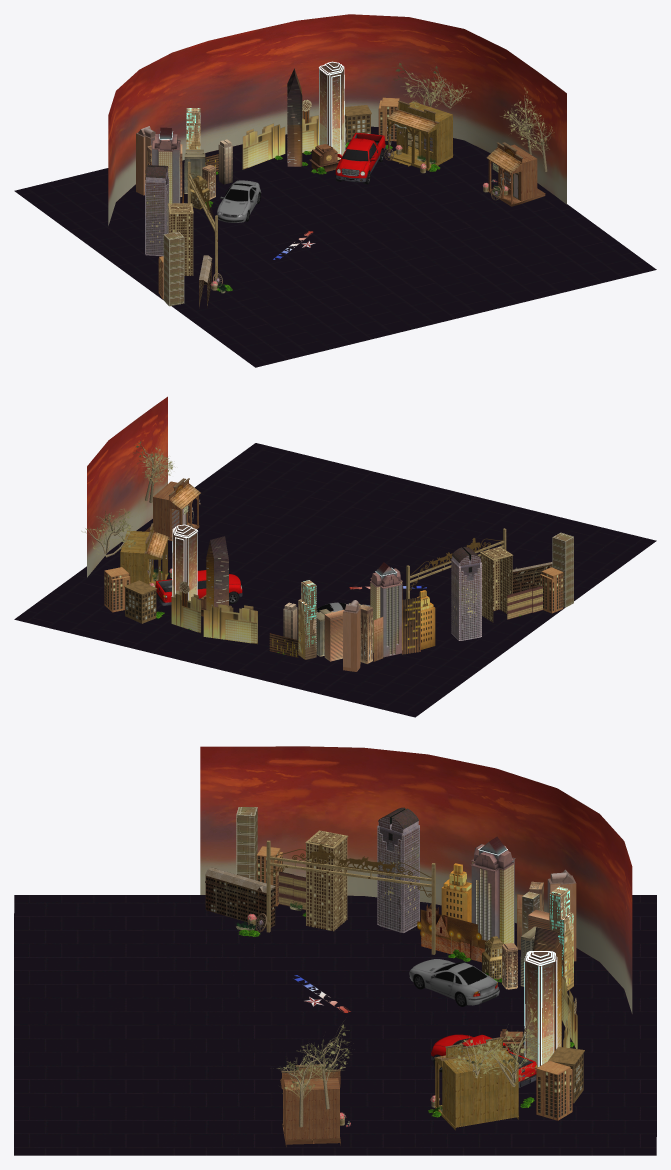
Rendered from wof_da.glb.
3 renders of one model, top to bottom at view 1: azimuth 30°, elevation 25°; view 2: azimuth 150°, elevation 25°; view 3: azimuth 270°, elevation 25°, orthographic. The views are drawn at different scales.
Parts seen in each view (by area): view 1: reflect_floorShape, backgroundShape, TreesShape, SaloonShape:6, BuildingShape:25, BuildingShape:14, Car_bigShape, storeShape:1, BuildingShape:11, BuildingShape:26, BuildingShape:20, BuildingShape:1 (+14 smaller); view 2: reflect_floorShape, backgroundShape, BuildingShape:14, BuildingShape:25, BuildingShape:20, BuildingShape:9, TreesShape, BuildingShape:7, BuildingShape:0, BuildingShape:1, SaloonShape:6, BuildingShape:22 (+15 smaller); view 3: reflect_floorShape, backgroundShape, SaloonShape:6, BuildingShape:25, TreesShape, BuildingShape:20, storeShape:1, BuildingShape:9, BuildingShape:10, Car_smallShape, BuildingShape:7, BuildingShape:11 (+16 smaller).
Part boxes in pixels (x1,y1,x2,y2): reflect_floorShape: [14, 126, 656, 367]; backgroundShape: [108, 14, 566, 225]; TreesShape: [392, 62, 554, 171]; SaloonShape:6: [387, 101, 453, 170]; BuildingShape:25: [145, 165, 168, 256]; BuildingShape:14: [242, 115, 318, 169]; Car_bigShape: [335, 132, 386, 184]; storeShape:1: [488, 144, 545, 206]; BuildingShape:11: [319, 68, 344, 159]; BuildingShape:26: [163, 231, 184, 306]; BuildingShape:20: [151, 127, 180, 203]; BuildingShape:1: [287, 68, 302, 166]; reflect_floorShape: [14, 443, 656, 717]; backgroundShape: [87, 396, 167, 577]; BuildingShape:14: [171, 591, 257, 644]; BuildingShape:25: [451, 547, 481, 640]; BuildingShape:20: [370, 562, 402, 657]; BuildingShape:9: [480, 546, 513, 622]; TreesShape: [81, 441, 175, 557]; BuildingShape:7: [104, 567, 563, 613]; BuildingShape:0: [269, 597, 420, 657]; BuildingShape:1: [206, 536, 228, 610]; SaloonShape:6: [120, 525, 168, 587]; BuildingShape:22: [298, 580, 316, 659]; reflect_floorShape: [14, 895, 656, 1155]; backgroundShape: [200, 746, 632, 1013]; SaloonShape:6: [434, 1039, 518, 1130]; BuildingShape:25: [377, 807, 419, 932]; TreesShape: [277, 1005, 538, 1127]; BuildingShape:20: [470, 836, 515, 943]; storeShape:1: [280, 1067, 340, 1146]; BuildingShape:9: [305, 830, 348, 931]; BuildingShape:10: [205, 867, 275, 927]; Car_smallShape: [409, 959, 499, 1006]; BuildingShape:7: [256, 846, 572, 1120]; BuildingShape:11: [526, 959, 556, 1067].
Bounding box in the file's own units: 2945 × 797 × 3003.
Materials: 57 (57 with a texture image).
